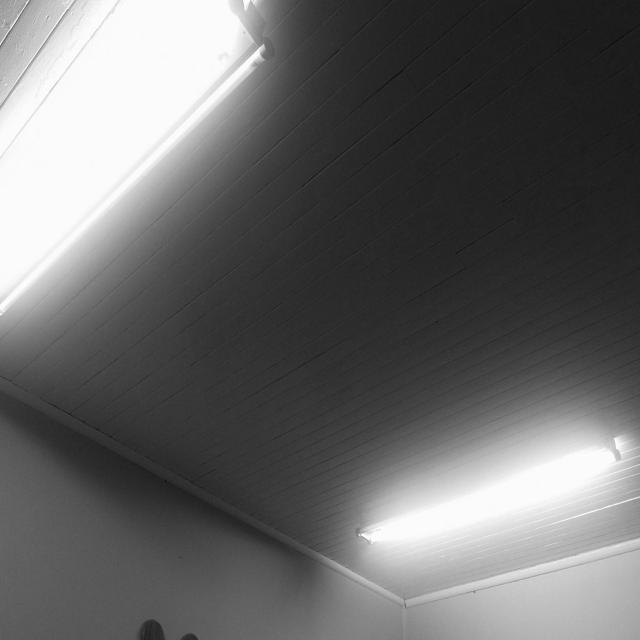light: (0, 0, 271, 318), (355, 431, 621, 546)
